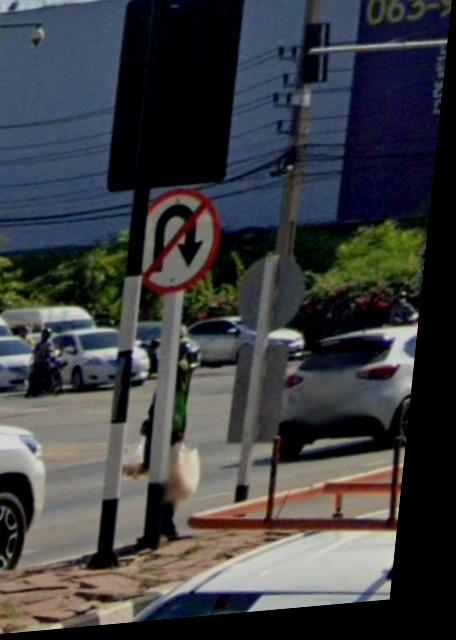not_u_turn_right: (135, 183, 233, 302)
